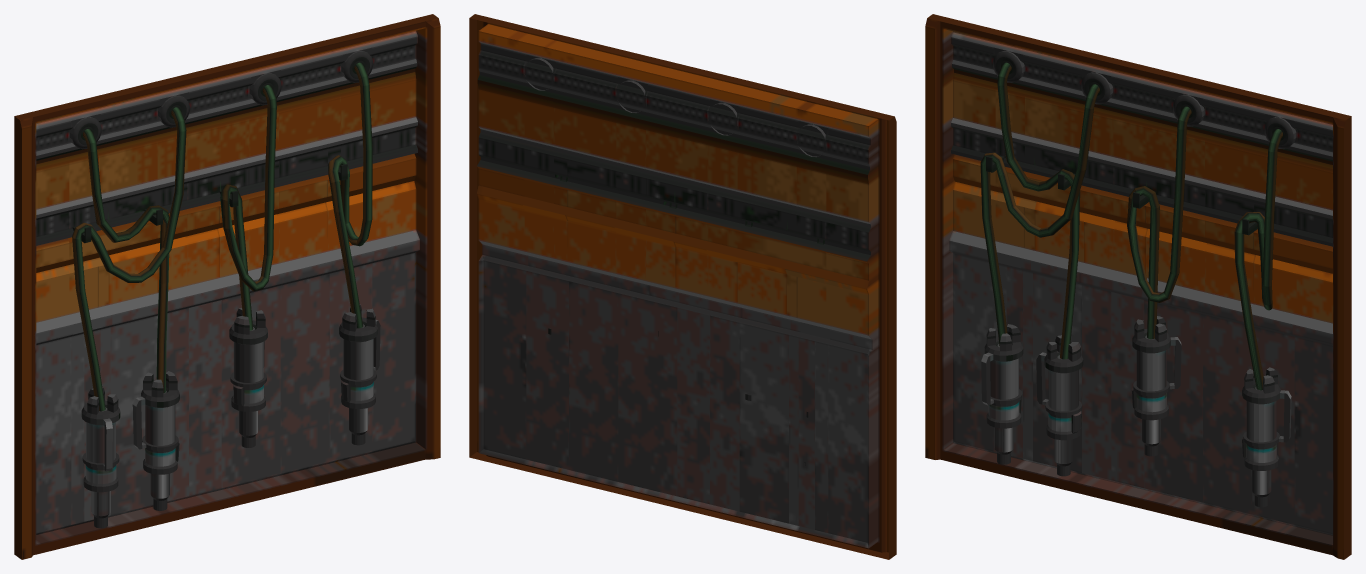
File: maint1_4.fbx
3 renders of one model, left to right at view 1: azimuth 30°, elevation 25°; view 2: azimuth 150°, elevation 25°; view 3: azimuth 330°, elevation 25°, orthographic.
Visible parts, largest first — view 1: maint1_4; view 2: maint1_4; view 3: maint1_4.
Part boxes in pixels (x1,y1,x2,y2): maint1_4: (14,14,440,559); maint1_4: (469,14,896,559); maint1_4: (925,14,1351,559).
Bounding box in the file's own units: 256 × 256 × 30.05.
